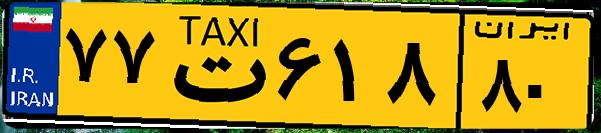0: (525, 38, 570, 115)
1: (330, 28, 385, 110)
6: (270, 28, 330, 110)
7: (57, 26, 110, 100), (110, 28, 158, 98)
8: (385, 28, 445, 110), (475, 38, 525, 113)
ت: (158, 12, 270, 120)
